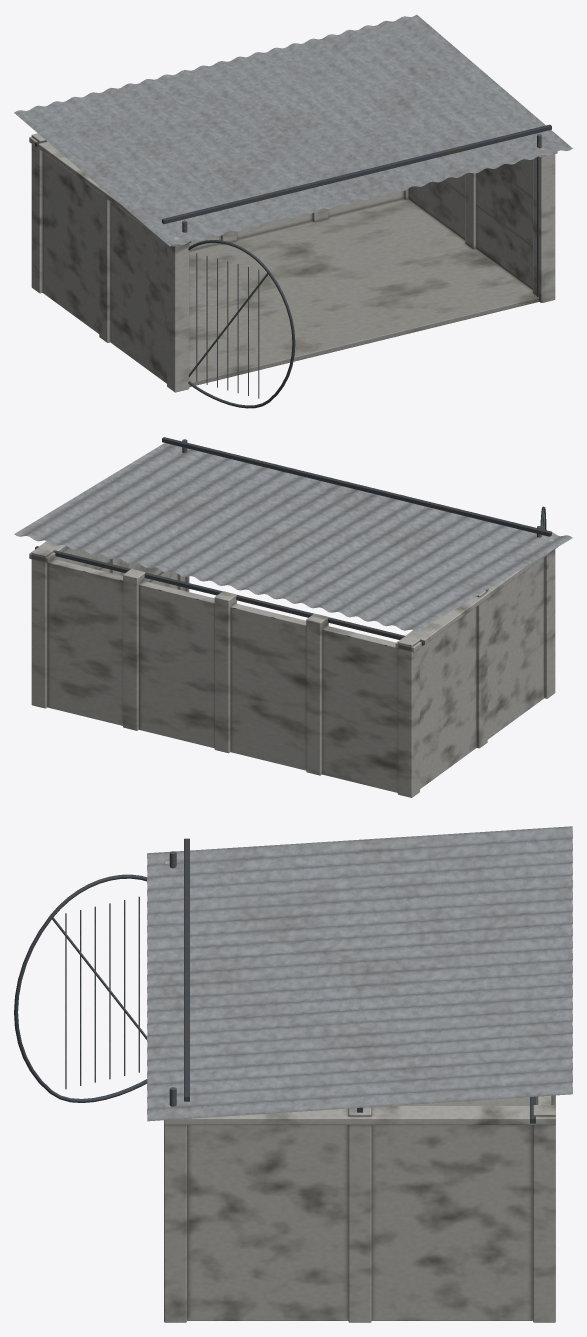
Rendered from ul_wiata.glb.
3 renders of one model, top to bottom at view 1: azimuth 30°, elevation 25°; view 2: azimuth 150°, elevation 25°; view 3: azimuth 270°, elevation 25°, orthographic. The views are drawn at different scales.
Visible parts, largest first — view 1: Mury, Dach; view 2: Mury, Dach; view 3: Dach, Mury.
Part boxes in pixels (x1=…): Mury: x1=29, y1=133, x2=557, y2=392; Dach: x1=14, y1=14, x2=572, y2=408; Mury: x1=29, y1=450, x2=557, y2=797; Dach: x1=14, y1=437, x2=572, y2=645; Dach: x1=14, y1=826, x2=572, y2=1123; Mury: x1=164, y1=861, x2=555, y2=1322.
Size of the model in its own units: 5.5 by 2.34 by 4.85.
Materials: 2 (2 with a texture image).
